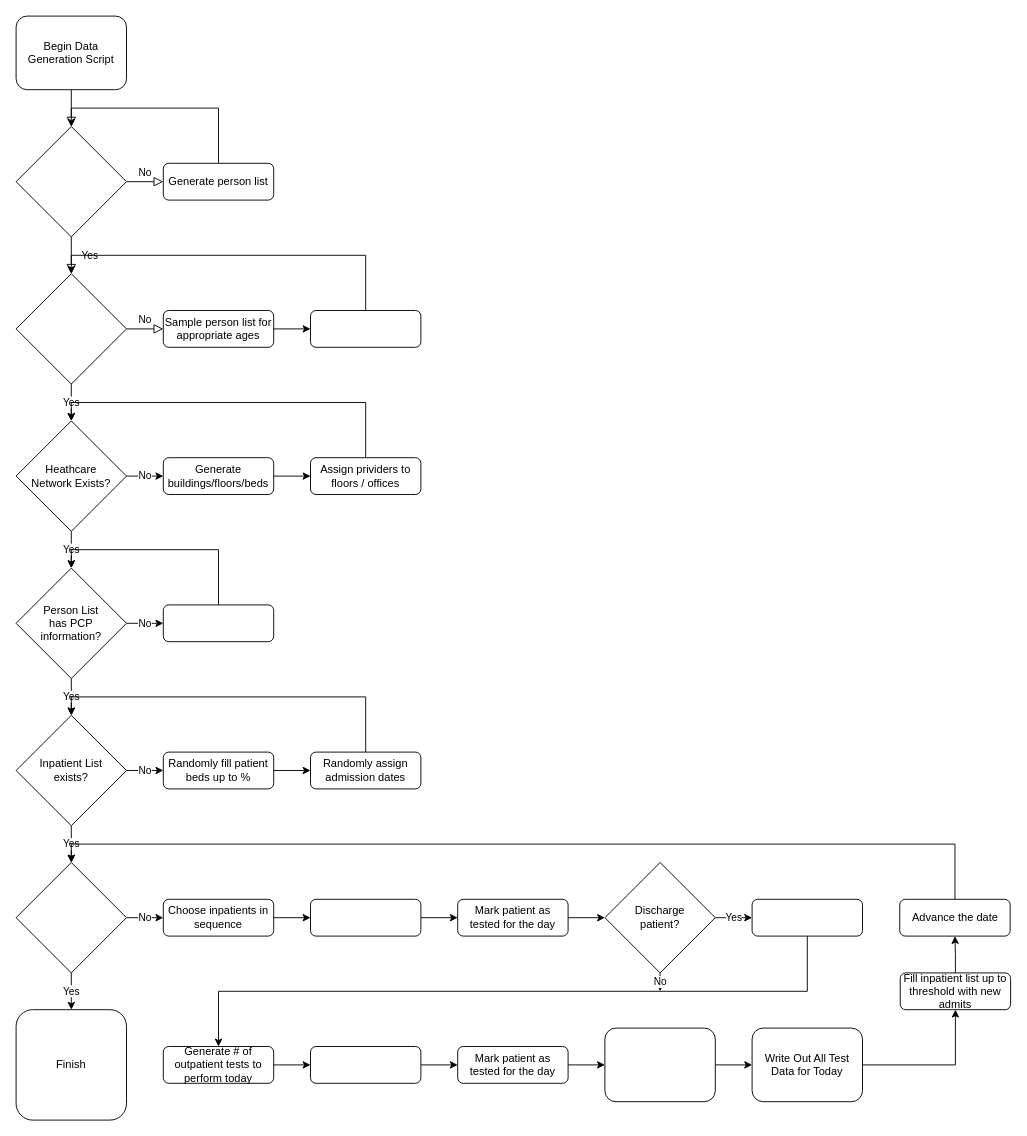
The diagram is 1027 pixels wide and 1136 high, and some of its shapes have lost their labels. Here are the shapes that lost their labels. From the top down, the centre of each, then its label:
point 70,181: Person list exists?
point 70,328: Provider list exists?
point 365,328: Generate provider information
point 218,623: Update person list to include PCP
point 70,917: Target number of tests performed?
point 365,917: Generate multiple Draws for the day
point 806,917: Remove patient from inpatient status
point 365,1064: Generate single Draw for the day
point 659,1064: Generate all tests for draws
